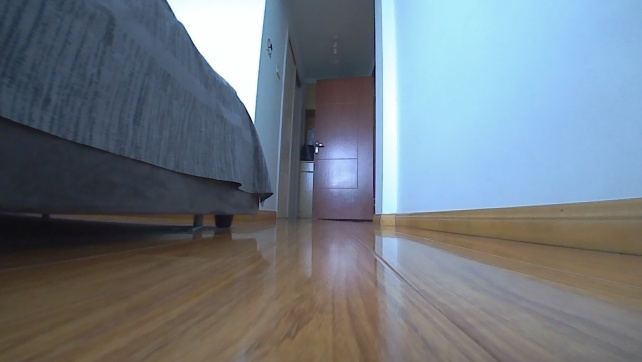bed1: (0, 0, 277, 233)
door_anno: (309, 73, 377, 221)
